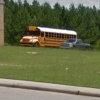Bus: (23, 22, 81, 52)
